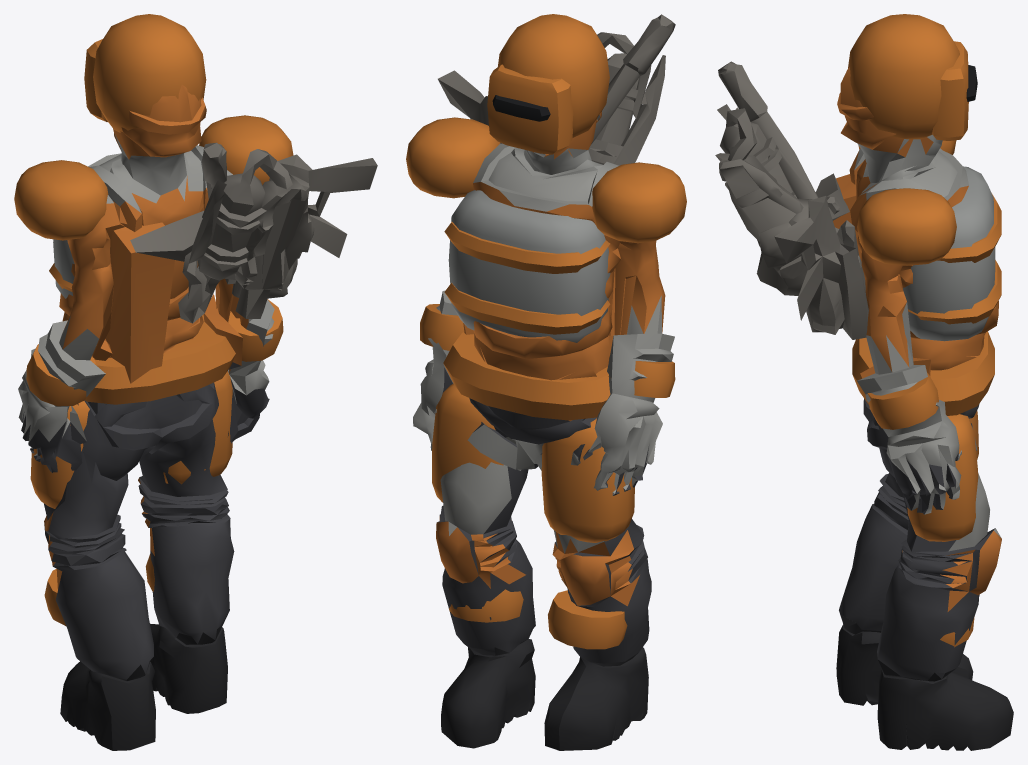
The model's file is character-armor-2.glb.
3 views of the same model, side by side, from view 1: azimuth 30°, elevation 25°; view 2: azimuth 150°, elevation 25°; view 3: azimuth 270°, elevation 25° (orthographic).
Parts seen in each view (by area): view 1: body; view 2: body; view 3: body.
Boxes of the visible parts, x1,y1,x2,y2 form: body: [14, 14, 377, 750]; body: [406, 14, 686, 750]; body: [715, 14, 1013, 750].
Bounding box in the file's own units: 0.82 × 1.84 × 0.7179.
